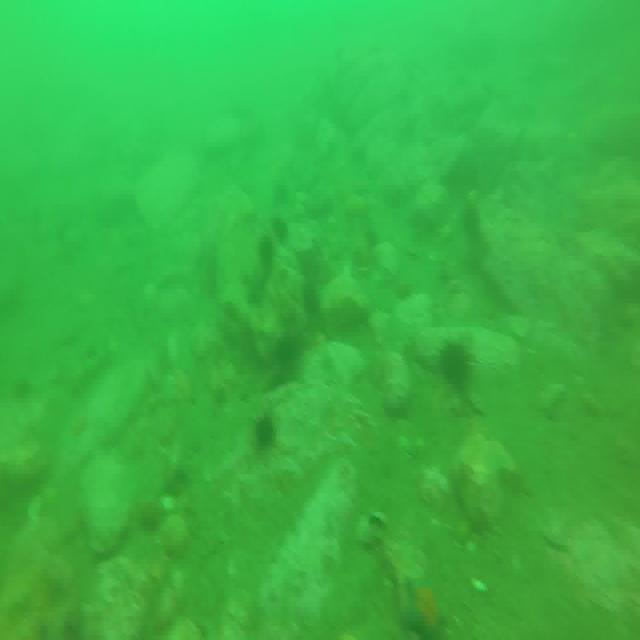echinus: (440, 340, 470, 385), (254, 412, 276, 445), (301, 281, 320, 314), (273, 214, 288, 248), (261, 234, 276, 267)
starfish: (400, 573, 448, 640)
